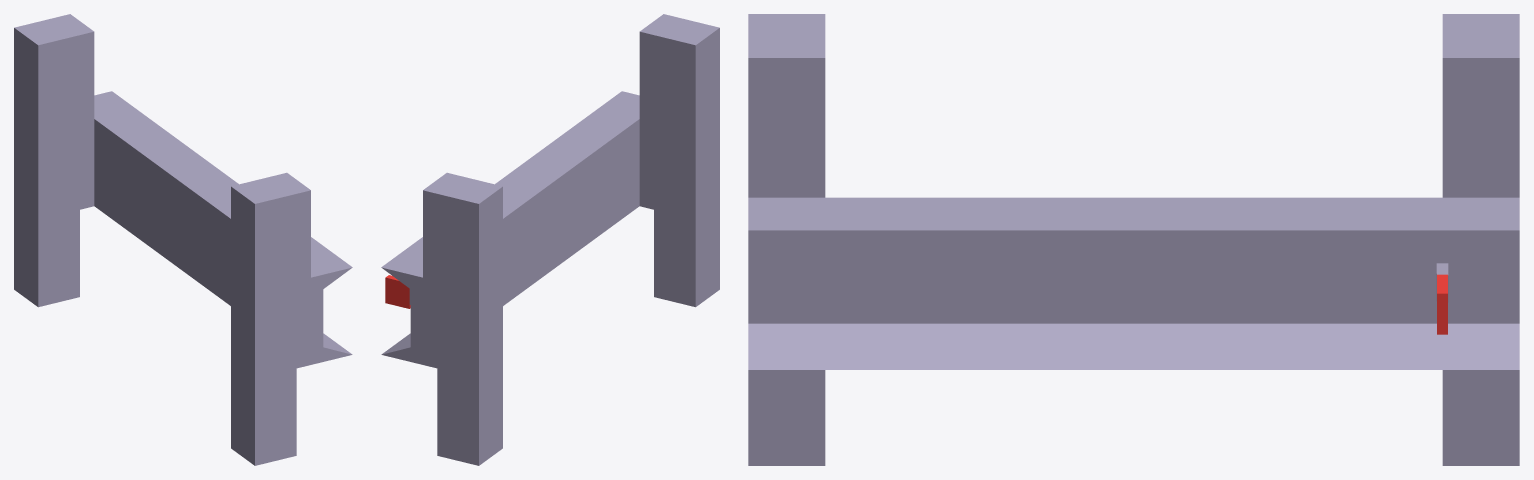
The model's file is guard_gray_yes.fbx.
The picture shows the model from 3 angles, left to right: view 1: azimuth 30°, elevation 25°; view 2: azimuth 150°, elevation 25°; view 3: azimuth 270°, elevation 25°; orthographic projection. The views are drawn at different scales.
Parts seen in each view (by area): view 1: Cube.066; view 2: Cube.066; view 3: Cube.066.
Part boxes in pixels (x1=…): Cube.066: x1=14, y1=14, x2=352, y2=465; Cube.066: x1=381, y1=14, x2=719, y2=465; Cube.066: x1=748, y1=14, x2=1519, y2=465.
Bounding box in the file's own units: 139 × 300 × 500.
1 material, 1 textured.
